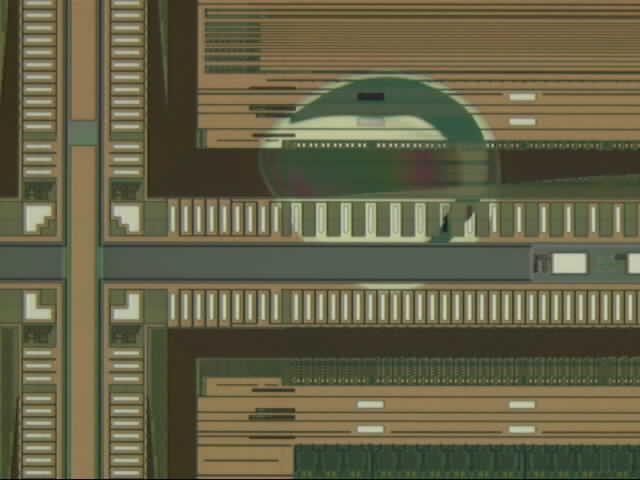BLOCK ETCH: (253, 64, 640, 298)
